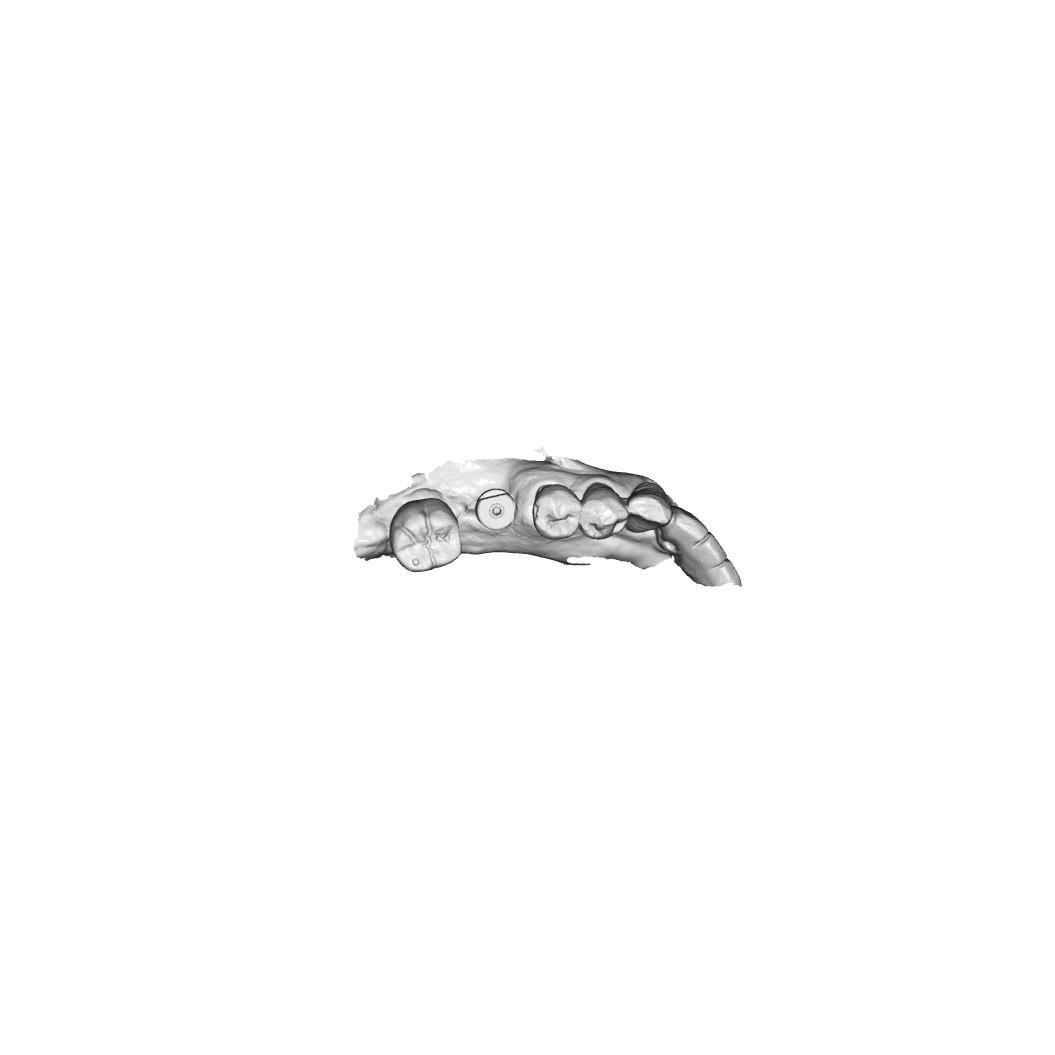canine: (630, 484, 672, 539)
implant: (477, 486, 516, 532)
incisor: (660, 507, 704, 552), (689, 528, 729, 573)
molar: (389, 496, 464, 575)
premolar: (533, 483, 578, 541), (579, 483, 625, 537)
